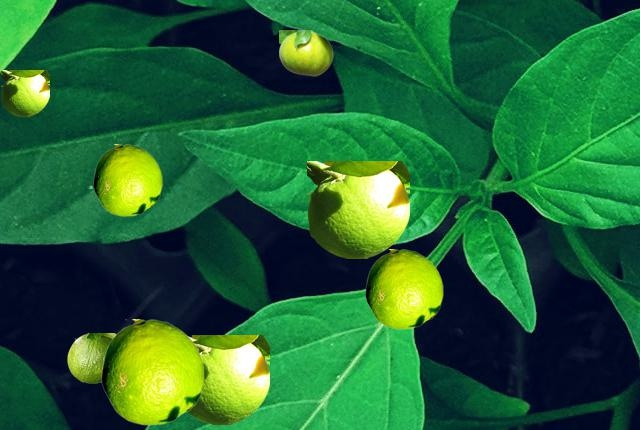dalandan: (101, 319, 203, 424), (307, 161, 408, 257), (188, 335, 268, 423), (365, 249, 442, 328), (93, 144, 161, 215), (279, 30, 332, 75), (67, 333, 115, 382), (1, 70, 48, 115)
